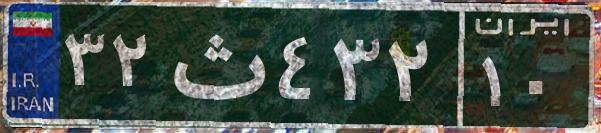0: (525, 38, 570, 115)
1: (475, 38, 525, 113)
2: (385, 28, 445, 110), (110, 28, 158, 105)
3: (330, 28, 385, 110), (57, 26, 110, 107)
4: (273, 28, 330, 110)
ث: (158, 15, 273, 115)
